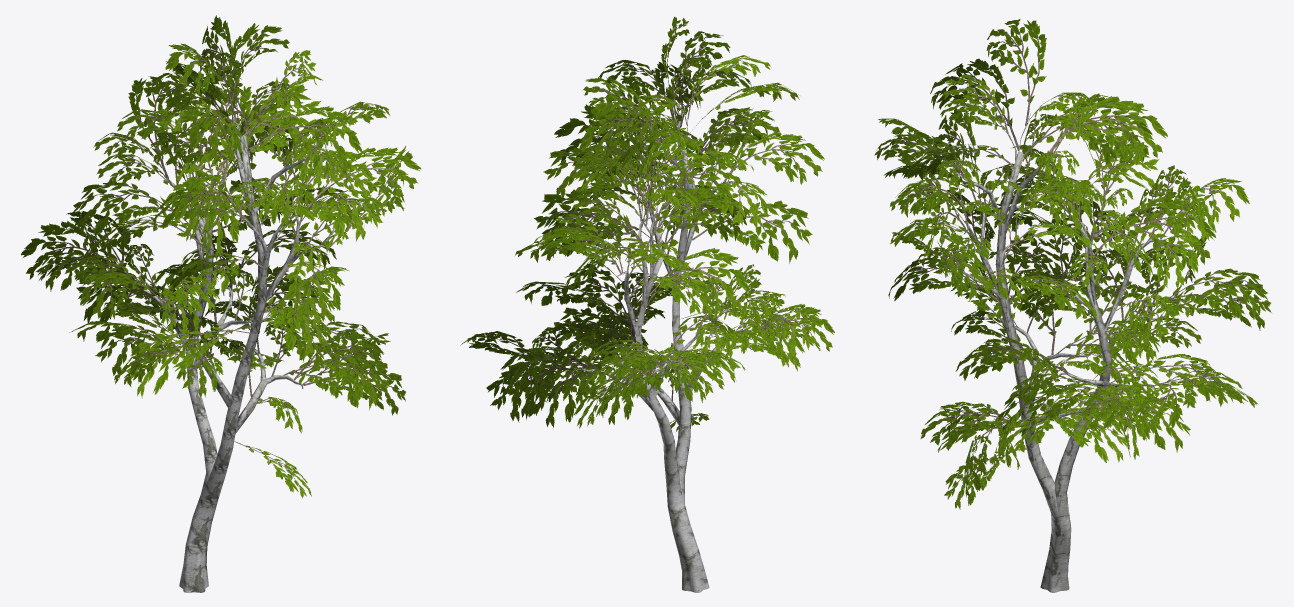
File: tree_birch.glb
3 views of the same model, side by side, from view 1: azimuth 30°, elevation 25°; view 2: azimuth 150°, elevation 25°; view 3: azimuth 270°, elevation 25° (orthographic). The views are drawn at different scales.
Parts seen in each view (by area): view 1: m; view 2: m; view 3: m.
Boxes of the visible parts, x1,y1,x2,y2 form: m: [21, 15, 421, 592]; m: [460, 16, 834, 592]; m: [874, 19, 1271, 592].
Size of the model in its own units: 0.6122 by 1 by 0.675.
Materials: 2 (2 with a texture image).
